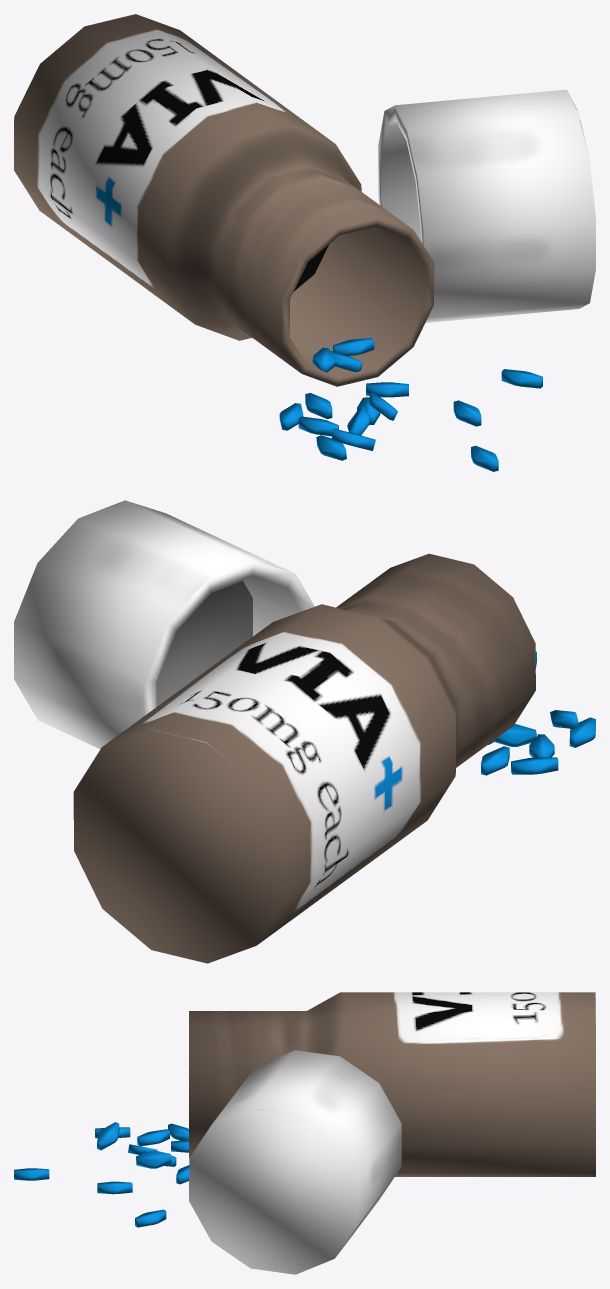
The model's file is viagra.fbx.
3 renders of one model, top to bottom at view 1: azimuth 30°, elevation 25°; view 2: azimuth 150°, elevation 25°; view 3: azimuth 270°, elevation 25°, orthographic. The views are drawn at different scales.
Visible parts, largest first — view 1: Cylinder; view 2: Cylinder; view 3: Cylinder.
Boxes of the visible parts, left/top/right/bottom form: Cylinder: left=14, top=14, right=595, bottom=471; Cylinder: left=14, top=500, right=595, bottom=963; Cylinder: left=14, top=992, right=595, bottom=1274.
Size of the model in its own units: 333 by 165 by 522.
